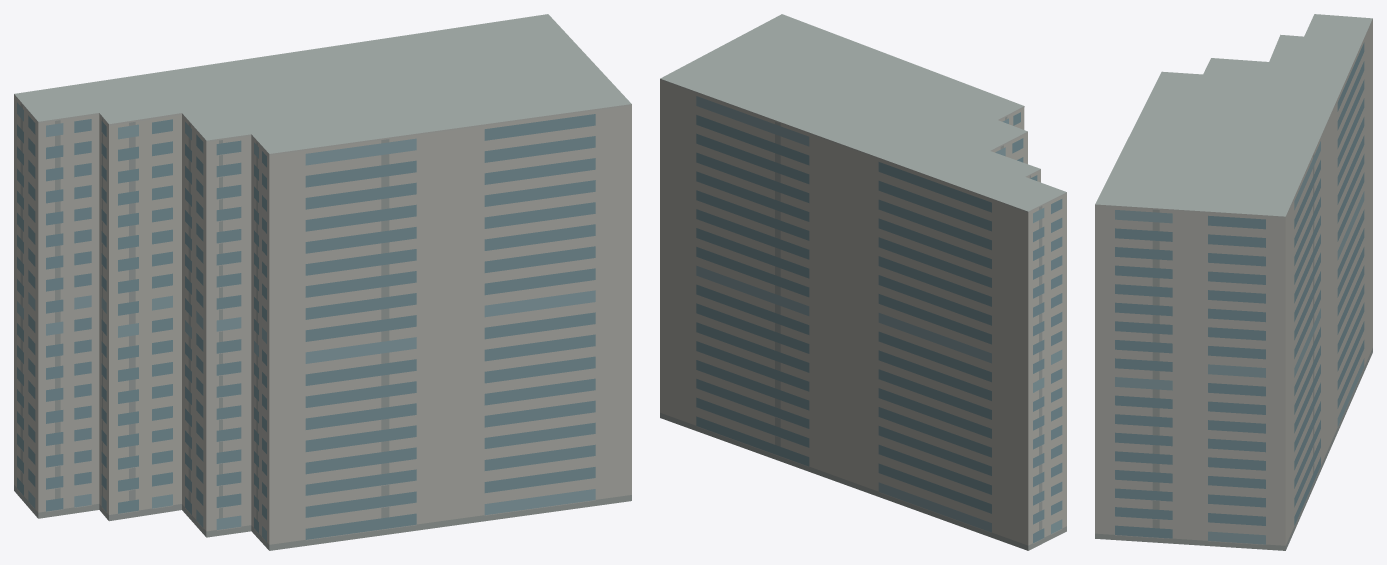
File: residential-408e52e9-0845-4c71-bbe6-6fa16328838f.glb
The picture shows the model from 3 angles, left to right: view 1: azimuth 30°, elevation 25°; view 2: azimuth 150°, elevation 25°; view 3: azimuth 270°, elevation 25°; orthographic projection. The views are drawn at different scales.
Visible parts, largest first — view 1: residential-408e52e9-0845-4c71-bbe6-6fa16328838f.tmp; view 2: residential-408e52e9-0845-4c71-bbe6-6fa16328838f.tmp; view 3: residential-408e52e9-0845-4c71-bbe6-6fa16328838f.tmp.
Part boxes in pixels (x1,y1,x2,y2): residential-408e52e9-0845-4c71-bbe6-6fa16328838f.tmp: (14,14,631,550); residential-408e52e9-0845-4c71-bbe6-6fa16328838f.tmp: (660,14,1066,550); residential-408e52e9-0845-4c71-bbe6-6fa16328838f.tmp: (1095,14,1372,550).
Size of the model in its own units: 79.29 by 61 by 45.93.
